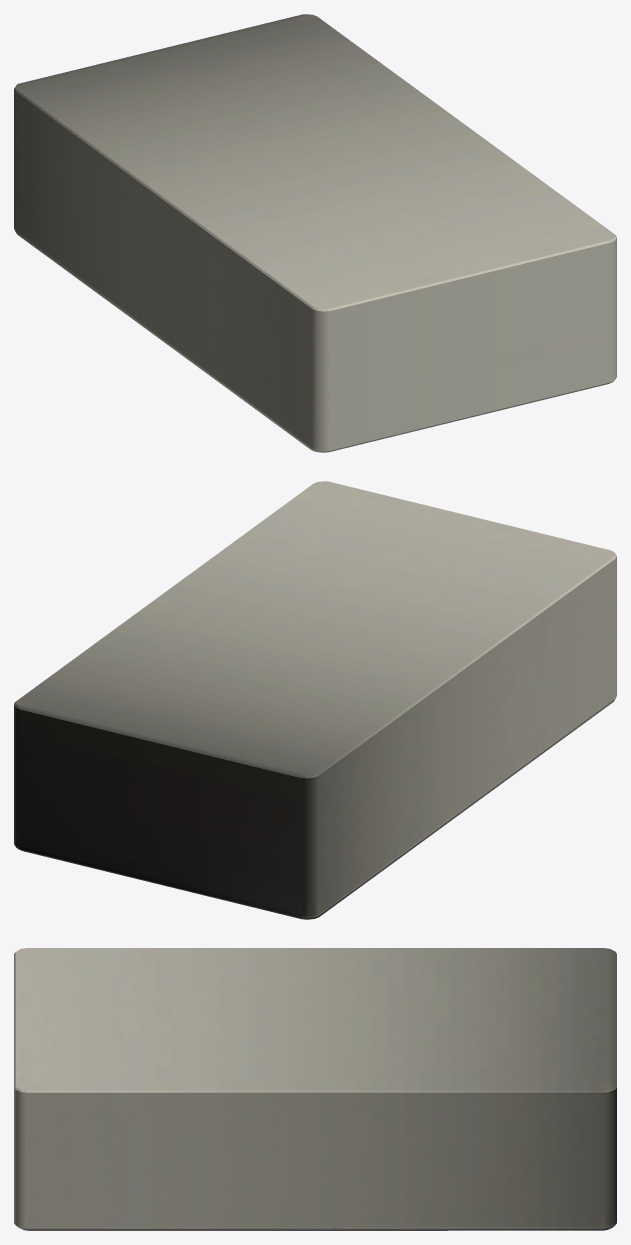
File: nt_2020_bookshelf_02_LOD0.obj
The picture shows the model from 3 angles, top to bottom: view 1: azimuth 30°, elevation 25°; view 2: azimuth 150°, elevation 25°; view 3: azimuth 270°, elevation 25°; orthographic projection. The views are drawn at different scales.
Visible parts, largest first — view 1: mtl_nt_2020_bookshelf_02; view 2: mtl_nt_2020_bookshelf_02; view 3: mtl_nt_2020_bookshelf_02.
Part boxes in pixels (x1,y1,x2,y2): mtl_nt_2020_bookshelf_02: (14,14,616,452); mtl_nt_2020_bookshelf_02: (14,481,616,919); mtl_nt_2020_bookshelf_02: (14,948,616,1230).
Bounding box in the file's own units: 122 × 55.24 × 216.
